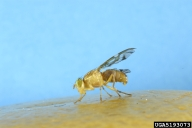Fruit fly: (65, 46, 138, 110)
